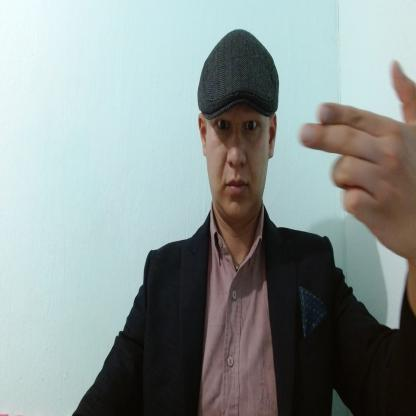H: (298, 60, 415, 265)
